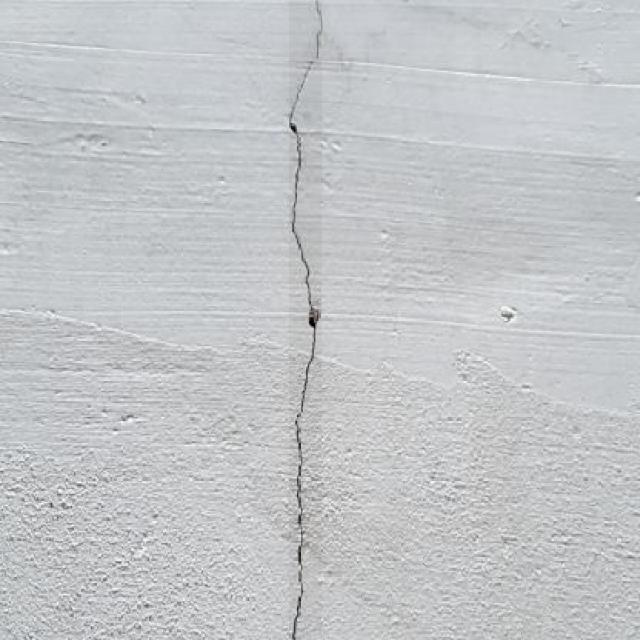vertical crack: (289, 2, 322, 639)
